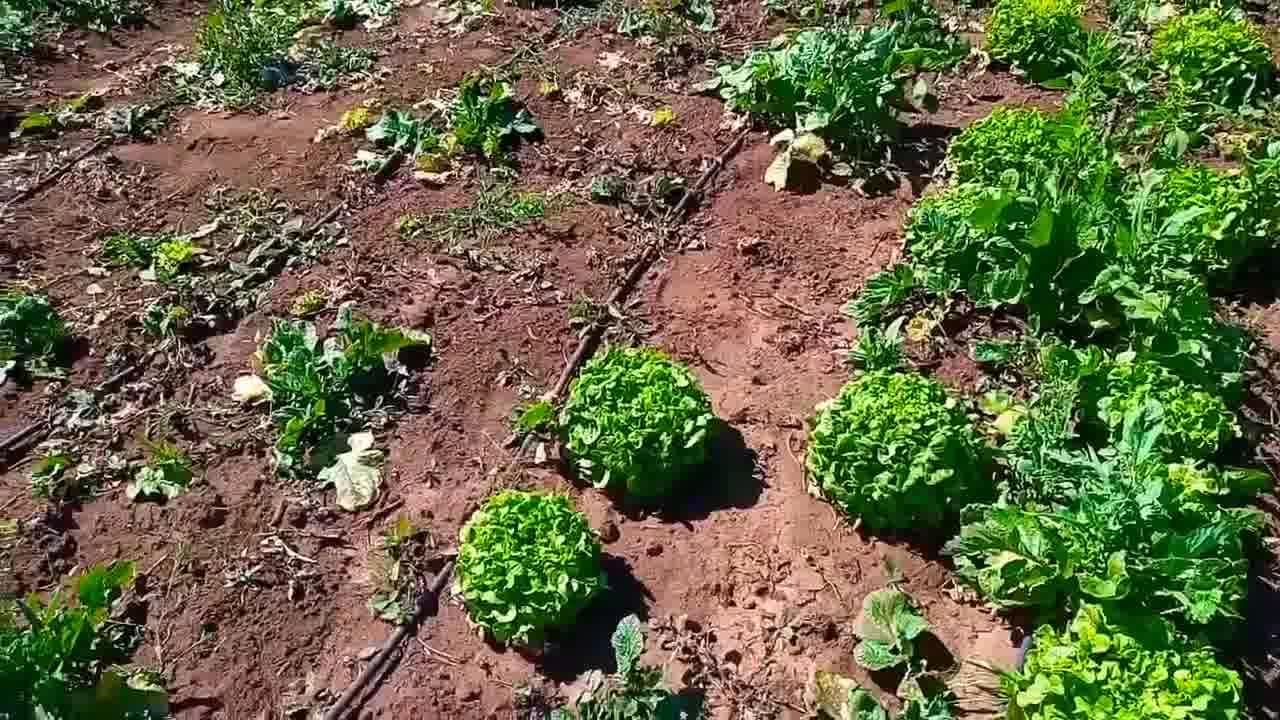Healthy: (803, 369, 988, 536), (452, 487, 607, 644), (550, 349, 713, 491), (1013, 620, 1238, 720), (1153, 3, 1274, 93), (981, 0, 1086, 76)
